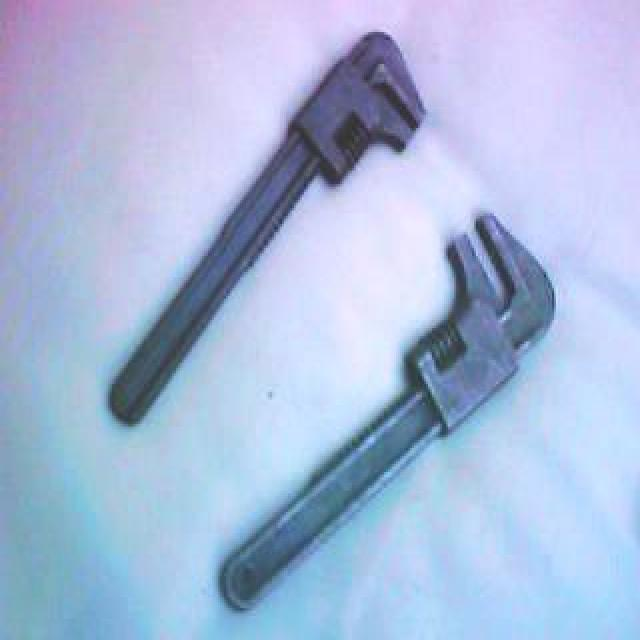wrench: (210, 199, 565, 619), (104, 19, 433, 433)
